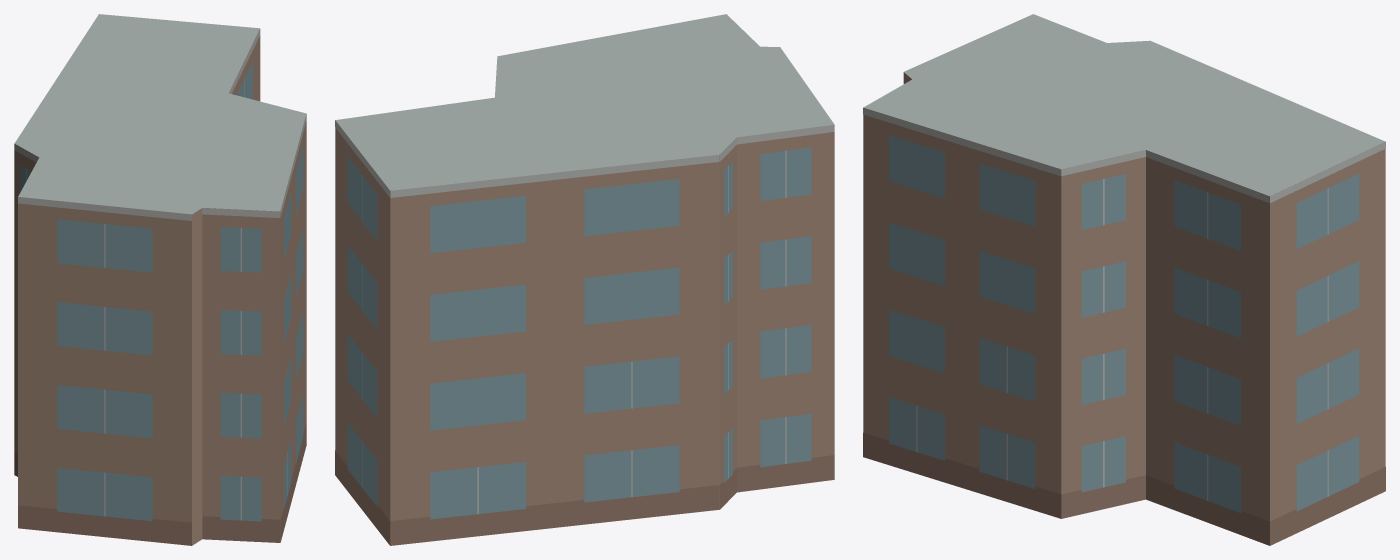
File: survey-upis-32928247.glb
3 views of the same model, side by side, from view 1: azimuth 30°, elevation 25°; view 2: azimuth 150°, elevation 25°; view 3: azimuth 270°, elevation 25° (orthographic). The views are drawn at different scales.
Visible parts, largest first — view 1: survey-upis-32928247.tmp; view 2: survey-upis-32928247.tmp; view 3: survey-upis-32928247.tmp.
Boxes of the visible parts, bbox=[...] form: survey-upis-32928247.tmp: bbox=[14, 14, 306, 545]; survey-upis-32928247.tmp: bbox=[335, 14, 834, 545]; survey-upis-32928247.tmp: bbox=[863, 14, 1385, 545].
Size of the model in its own units: 13.66 by 12.2 by 16.54.
